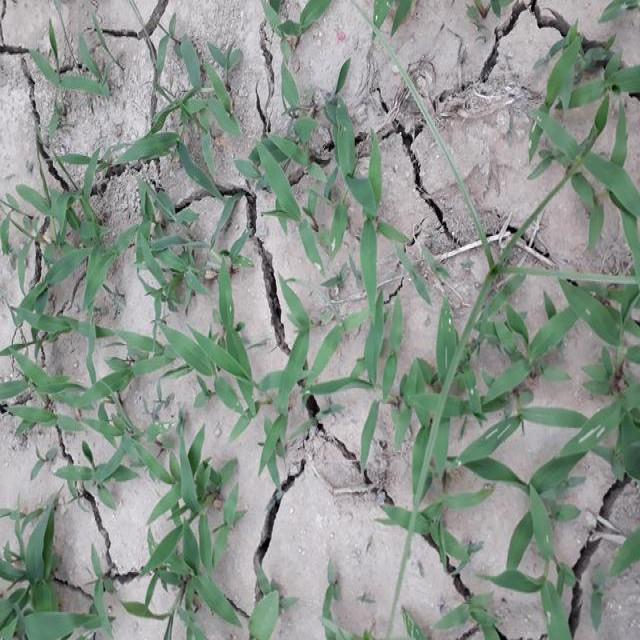weed: (406, 253, 640, 581), (0, 168, 129, 422), (253, 81, 389, 293), (140, 424, 238, 640), (538, 20, 632, 224), (118, 36, 235, 196), (1, 477, 86, 640)
